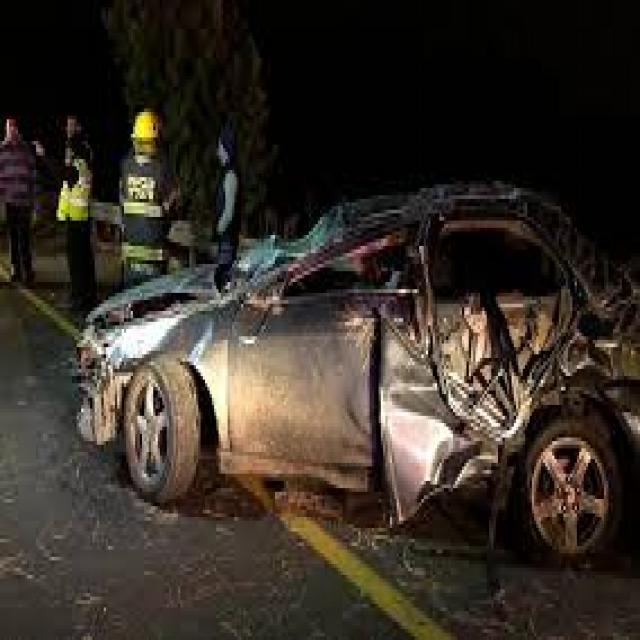accident: (95, 186, 619, 570)
